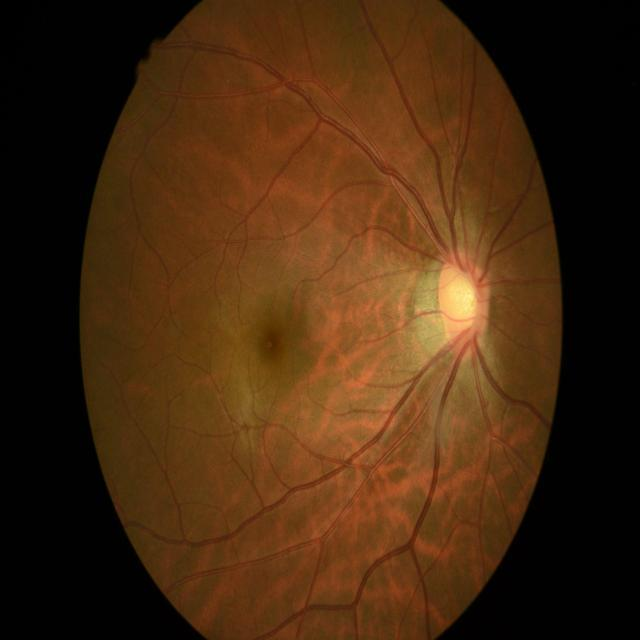cup: (450, 270, 480, 332)
disk: (436, 254, 492, 358)
